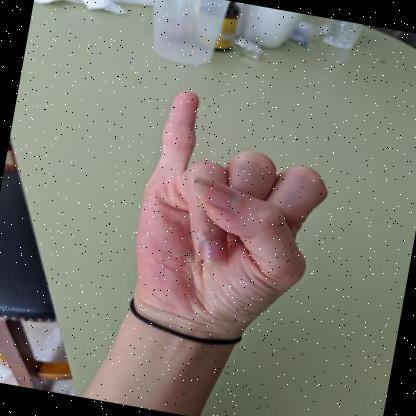I: (126, 89, 327, 334)
